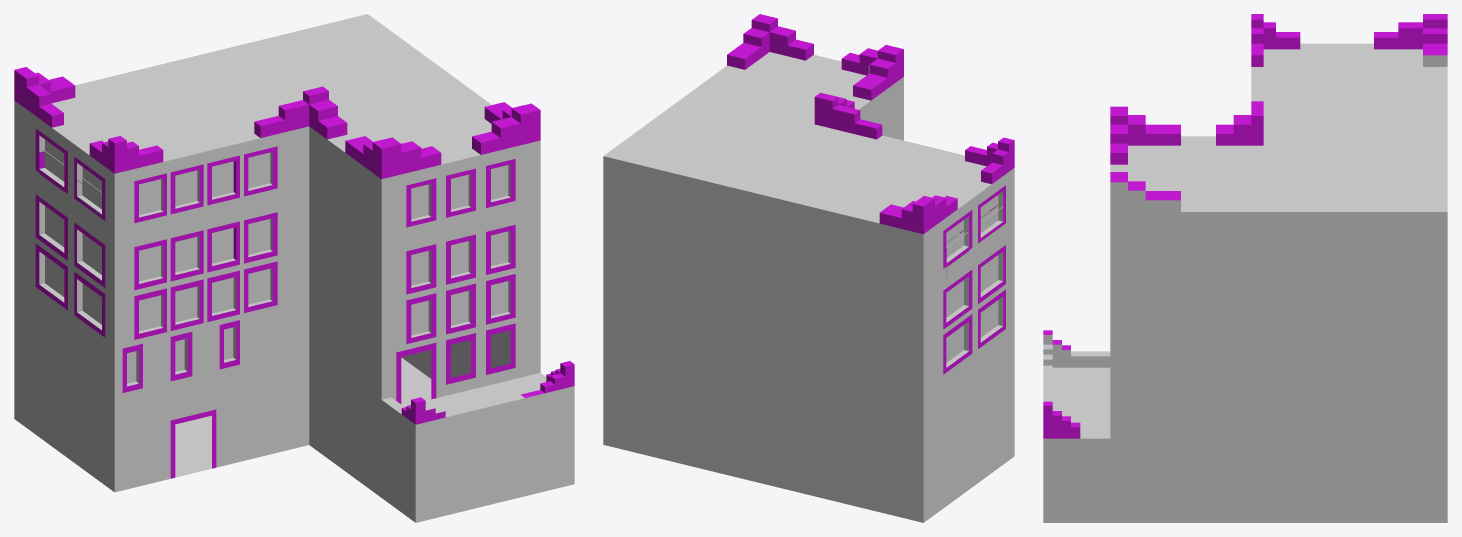
The picture shows the model from 3 angles, left to right: view 1: azimuth 30°, elevation 25°; view 2: azimuth 150°, elevation 25°; view 3: azimuth 270°, elevation 25°; orthographic projection. The views are drawn at different scales.
Visible parts, largest first — view 1: Cube.010; view 2: Cube.010; view 3: Cube.010.
Part boxes in pixels (<box>): Cube.010: <box>14,14,574,522</box>; Cube.010: <box>603,14,1014,522</box>; Cube.010: <box>1043,14,1447,522</box>.
Bounding box in the file's own units: 837 × 790 × 849.
